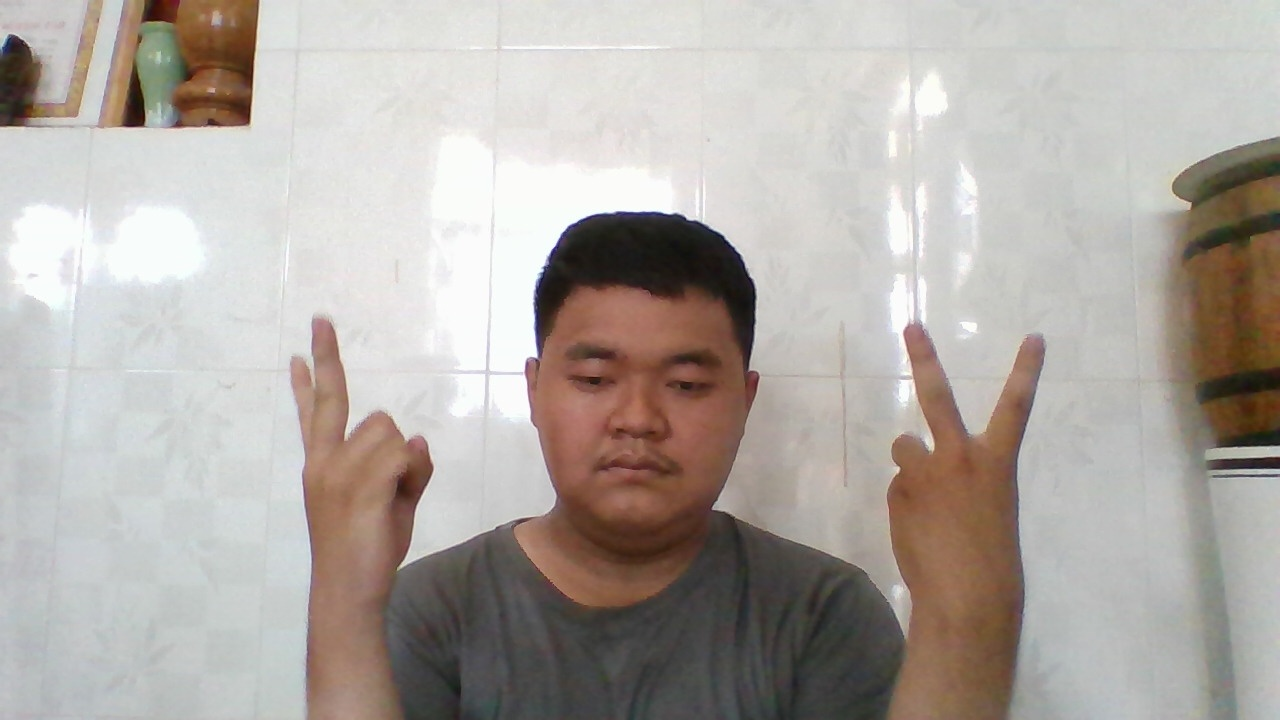V: (878, 317, 1051, 620), (283, 306, 432, 620)
